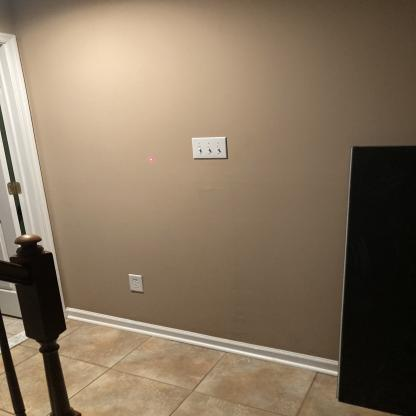target: (144, 158, 157, 165)
